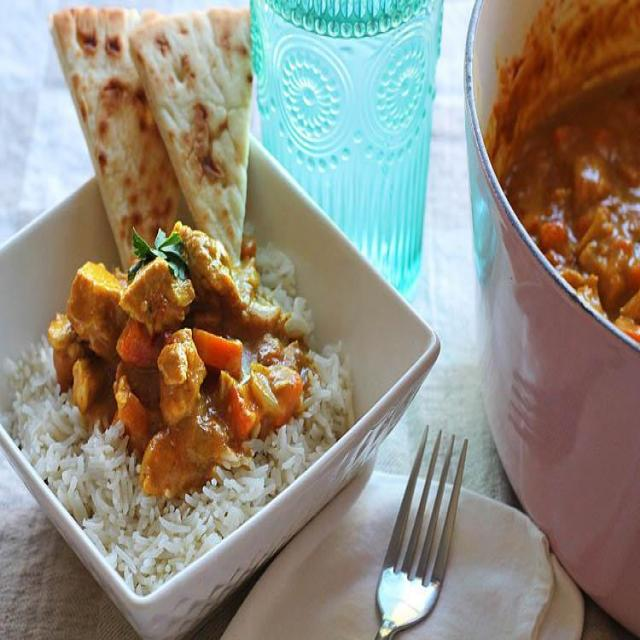chicken: (63, 261, 306, 475), (492, 4, 640, 327)
rice: (12, 369, 372, 572)
roti: (52, 4, 254, 252)
